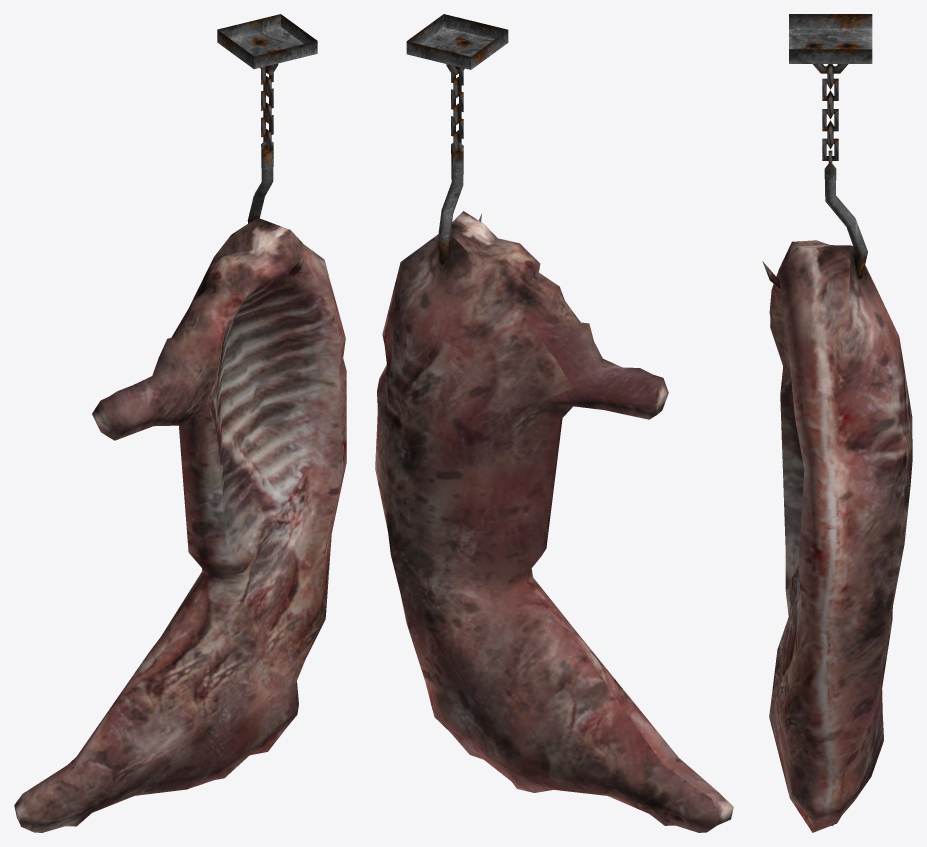
The model's file is carcass.dae.
3 views of the same model, side by side, from view 1: azimuth 30°, elevation 25°; view 2: azimuth 150°, elevation 25°; view 3: azimuth 270°, elevation 25° (orthographic). The views are drawn at different scales.
Parts seen in each view (by area): view 1: carcass_meat_and_hook, carcass_ceilingplate, carcass_chain; view 2: carcass_meat_and_hook, carcass_ceilingplate, carcass_chain; view 3: carcass_meat_and_hook, carcass_ceilingplate, carcass_chain.
Boxes of the visible parts, <box> form: carcass_meat_and_hook: <box>14,140,346,832</box>; carcass_ceilingplate: <box>217,14,317,75</box>; carcass_chain: <box>261,65,273,151</box>; carcass_meat_and_hook: <box>375,141,733,832</box>; carcass_ceilingplate: <box>406,14,508,76</box>; carcass_chain: <box>451,66,463,153</box>; carcass_meat_and_hook: <box>762,150,912,832</box>; carcass_ceilingplate: <box>789,14,872,73</box>; carcass_chain: <box>822,64,838,160</box>.
Bounding box in the file's own units: 1.04 × 2.16 × 0.353.
